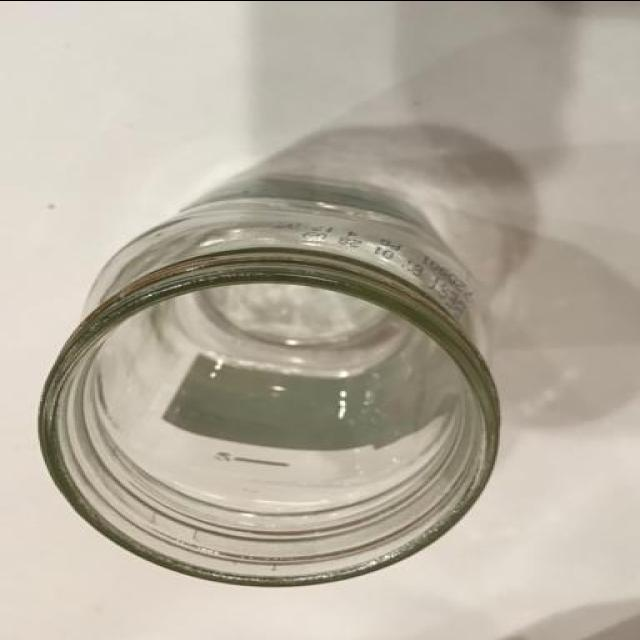Glass Bottle: (36, 189, 502, 591)
